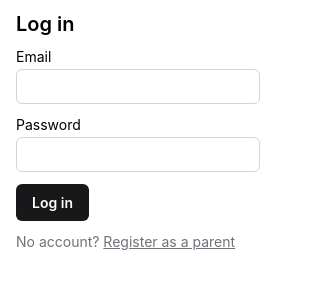
Test: shows 422 field errors on failure
The width and height of the screenshot is (320, 287).
In the field with test id "email": (138, 86) x1=16 y1=69 x2=260 y2=104, type "bad"
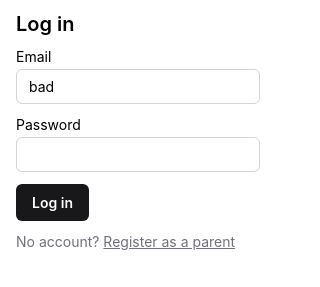
In the password field with test id "password": (138, 154) x1=16 y1=137 x2=260 y2=172, type "password"
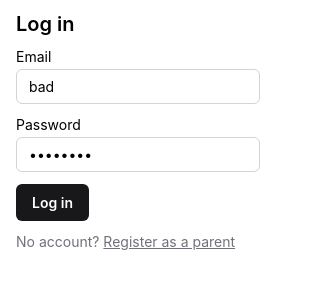
Click the element with test id "submit": (52, 202) x1=16 y1=184 x2=89 y2=221
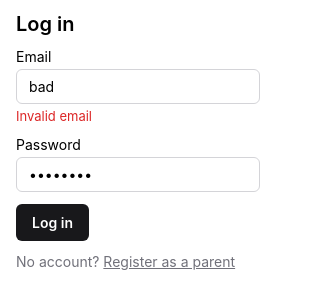
Expected: the text "Invalid email" is shown, x1=16 y1=108 x2=92 y2=124
